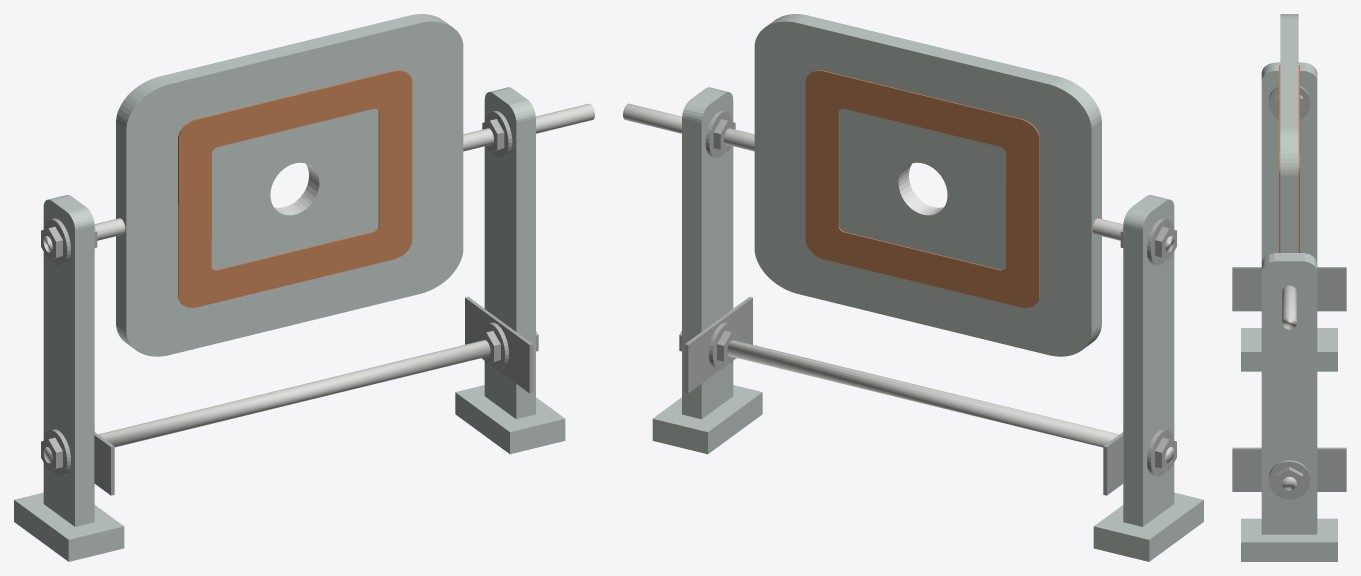
File: coil.glb
The picture shows the model from 3 angles, left to right: view 1: azimuth 30°, elevation 25°; view 2: azimuth 150°, elevation 25°; view 3: azimuth 270°, elevation 25°; orthographic projection. The views are drawn at different scales.
Visible parts, largest first — view 1: frame, stand, axis, handle; view 2: frame, stand, axis, handle; view 3: stand, frame, handle.
Part boxes in pixels (x1,y1,x2,y2): frame: [116, 14, 463, 356]; stand: [14, 87, 565, 561]; axis: [43, 128, 493, 252]; handle: [536, 103, 594, 133]; frame: [754, 14, 1101, 356]; stand: [652, 87, 1203, 561]; axis: [724, 128, 1174, 252]; handle: [623, 103, 681, 133]; stand: [1232, 62, 1346, 561]; frame: [1279, 14, 1299, 252]; handle: [1282, 285, 1296, 329].
Size of the model in its own units: 62.59 by 46.98 by 12.79.
